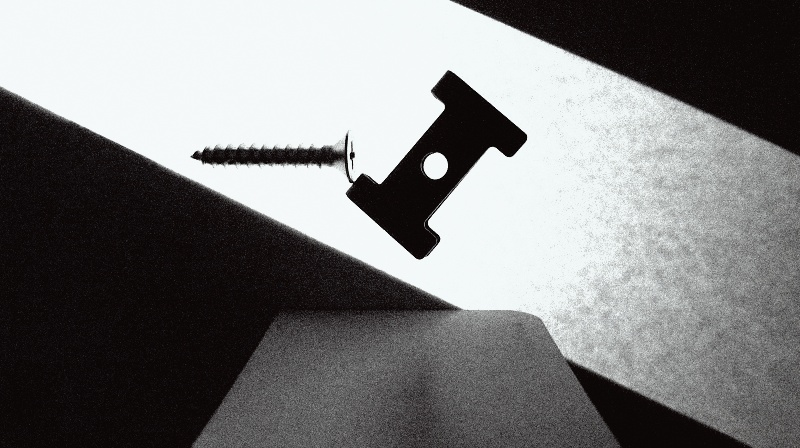O002: (347, 69, 529, 260)
S001: (188, 127, 353, 182)
